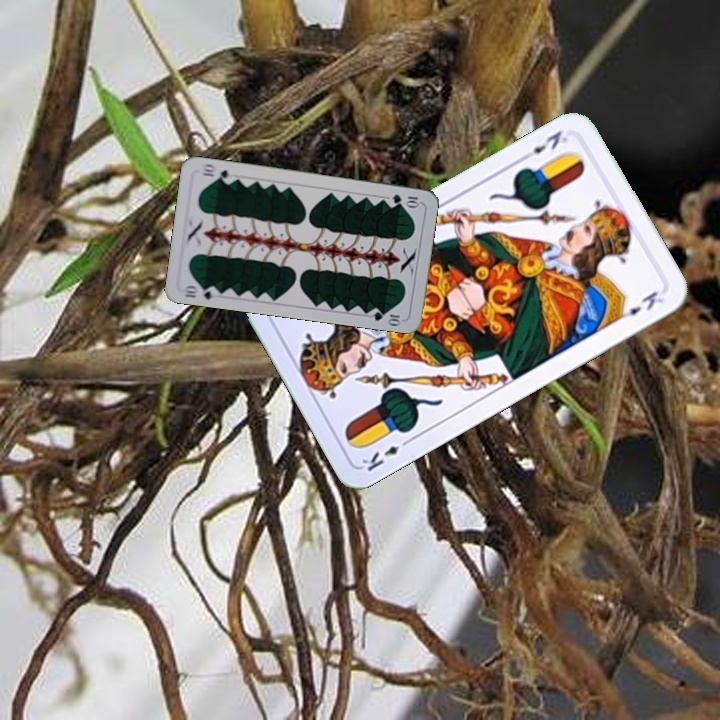EK: (357, 434, 414, 475), (518, 126, 571, 163)
G10: (179, 281, 220, 302), (388, 190, 422, 208)
